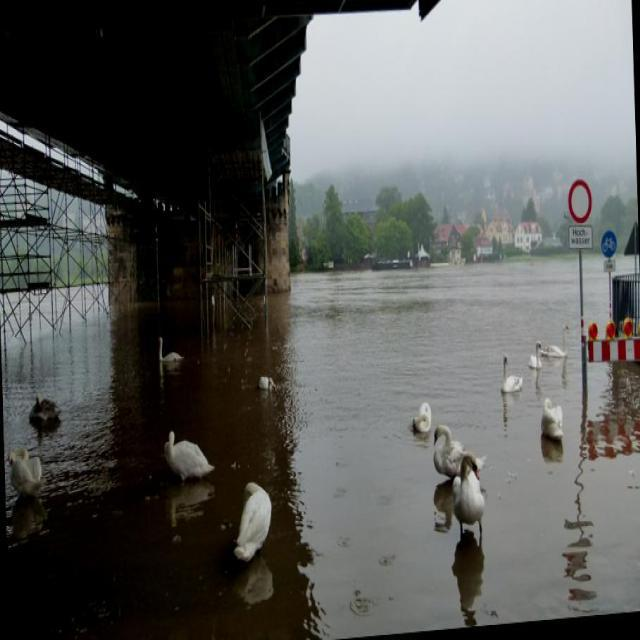flood: (0, 209, 639, 638)
